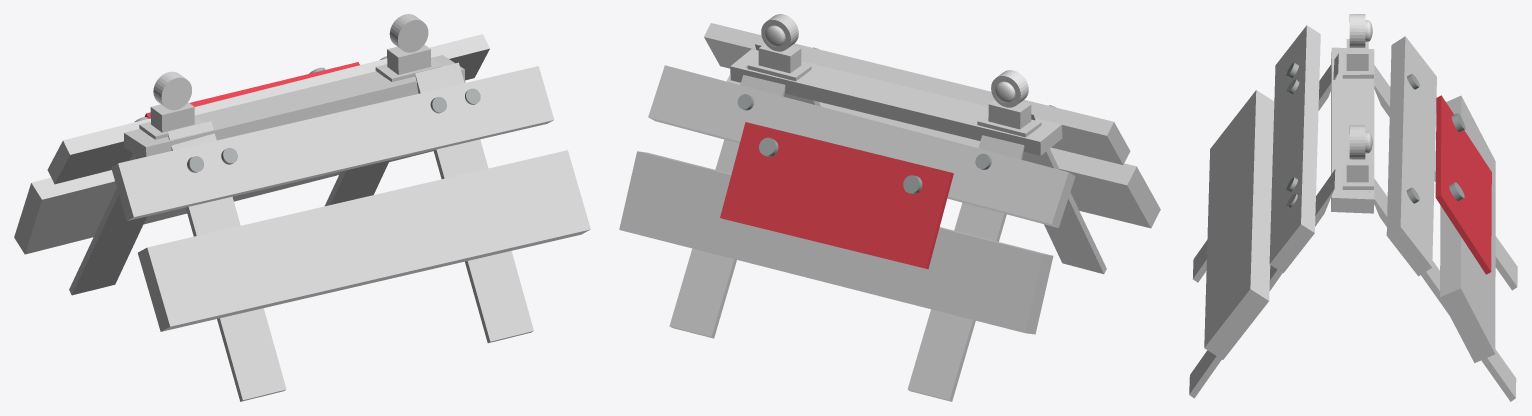
File: Small_barricade.fbx
3 renders of one model, left to right at view 1: azimuth 30°, elevation 25°; view 2: azimuth 150°, elevation 25°; view 3: azimuth 270°, elevation 25°, orthographic. The views are drawn at different scales.
Visible parts, largest first — view 1: Barricade_lower_plank_back, Barricade_upper_plank_back, Barricade_middle_ support, Barricade_left_leg_back, Barricade_lower_plank_front, Barricade_upper_plank_front, Barricade_right_leg_back, Barricade_right_leg_front, Barricade_left_leg_front, Headlight1, Headlight2, Headlight_2_stand (+2 smaller); view 2: Barricade_lower_plank_front, Barricade_sign_front, Barricade_upper_plank_front, Barricade_middle_ support, Barricade_upper_plank_back, Barricade_right_leg_front, Barricade_lower_plank_back, Barricade_left_leg_front, Barricade_right_leg_back, Headlight2, Headlight1, Headlight_2_stand (+3 smaller); view 3: Barricade_lower_plank_back, Barricade_upper_plank_front, Barricade_upper_plank_back, Barricade_lower_plank_front, Barricade_sign_front, Barricade_middle_ support, Barricade_left_leg_front, Barricade_left_leg_back, Barricade_right_leg_front, Barricade_right_leg_back, Headlight1, Headlight2 (+4 smaller).
Part boxes in pixels (<box>): Barricade_lower_plank_back: <box>138,150,590,331</box>; Barricade_upper_plank_back: <box>111,66,554,220</box>; Barricade_middle_ support: <box>124,55,465,157</box>; Barricade_left_leg_back: <box>415,62,533,343</box>; Barricade_lower_plank_front: <box>14,150,433,254</box>; Barricade_upper_plank_front: <box>47,34,489,184</box>; Barricade_right_leg_back: <box>167,121,286,401</box>; Barricade_right_leg_front: <box>69,153,146,295</box>; Barricade_left_leg_front: <box>325,160,389,206</box>; Headlight1: <box>389,14,428,52</box>; Headlight2: <box>153,71,191,110</box>; Headlight_2_stand: <box>150,102,194,132</box>; Barricade_lower_plank_front: <box>619,151,1053,334</box>; Barricade_sign_front: <box>720,122,953,269</box>; Barricade_upper_plank_front: <box>648,65,1075,227</box>; Barricade_middle_ support: <box>730,49,1062,155</box>; Barricade_upper_plank_back: <box>704,23,1130,164</box>; Barricade_right_leg_front: <box>907,135,1024,401</box>; Barricade_lower_plank_back: <box>726,74,1160,228</box>; Barricade_left_leg_front: <box>669,66,785,338</box>; Barricade_right_leg_back: <box>1022,114,1106,274</box>; Headlight2: <box>991,70,1028,107</box>; Headlight1: <box>761,14,798,51</box>; Headlight_2_stand: <box>988,100,1031,129</box>; Barricade_lower_plank_back: <box>1204,90,1274,359</box>; Barricade_upper_plank_front: <box>1386,36,1436,276</box>; Barricade_upper_plank_back: <box>1269,25,1320,272</box>; Barricade_lower_plank_front: <box>1440,95,1495,363</box>; Barricade_sign_front: <box>1435,95,1491,274</box>; Barricade_middle_ support: <box>1331,47,1374,213</box>; Barricade_left_leg_front: <box>1369,178,1516,401</box>; Barricade_left_leg_back: <box>1189,169,1335,398</box>; Barricade_right_leg_front: <box>1374,65,1517,290</box>; Barricade_right_leg_back: <box>1193,53,1338,282</box>; Headlight1: <box>1349,125,1372,159</box>; Headlight2: <box>1349,14,1372,47</box>.
Bounding box in the file's own units: 6123 × 3750 × 4218.
